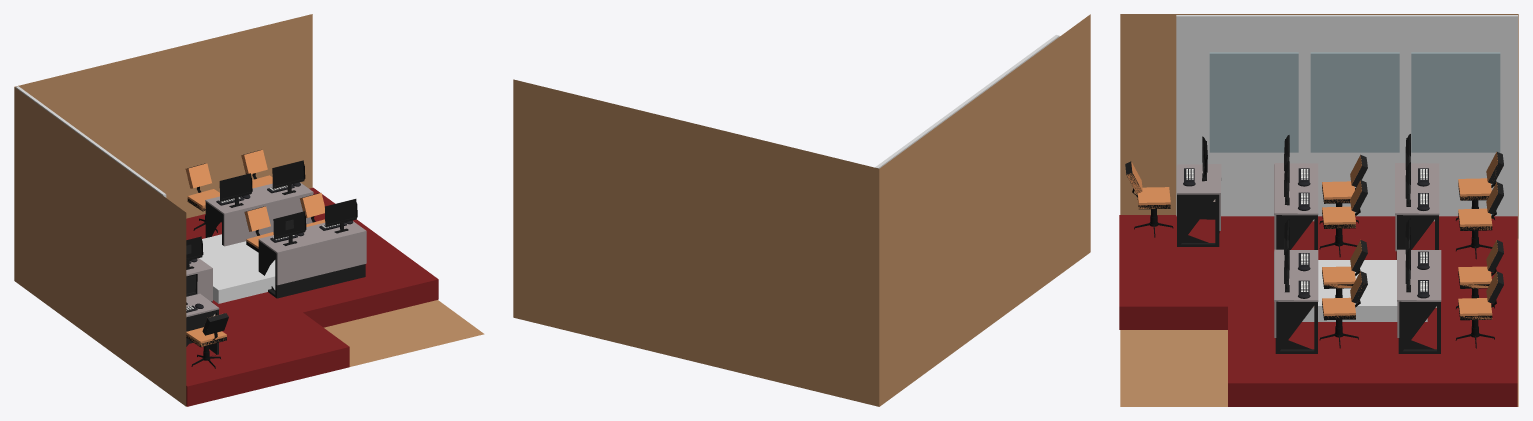
Rendered from lab.multi media.glb.
3 renders of one model, left to right at view 1: azimuth 30°, elevation 25°; view 2: azimuth 150°, elevation 25°; view 3: azimuth 270°, elevation 25°, orthographic. The views are drawn at different scales.
Visible parts, largest first — view 1: Plane, Cube, Cube.001, Cube.002, Cube.012, Cube.003, Kubus.003, Kubus.002, Kubus.029, Kubus.024, Cube.006, Cube.017 (+8 smaller); view 2: Plane, Cube.017; view 3: Cube, Cube.017, Plane, Cube.019, Cube.020, Cube.018, Cube.002, Cube.006, Cube.001, Cube.012, Cube.009, Cube.014 (+14 smaller).
Part boxes in pixels (bbox=[...]): Plane: bbox=[14, 14, 484, 406]; Cube: bbox=[186, 187, 438, 406]; Cube.001: bbox=[258, 221, 366, 285]; Cube.002: bbox=[199, 234, 275, 303]; Cube.012: bbox=[205, 182, 313, 246]; Cube.003: bbox=[258, 241, 365, 298]; Kubus.003: bbox=[219, 173, 252, 207]; Kubus.002: bbox=[272, 160, 305, 194]; Kubus.029: bbox=[325, 199, 357, 233]; Kubus.024: bbox=[273, 211, 306, 245]; Cube.006: bbox=[186, 258, 212, 301]; Cube.017: bbox=[15, 86, 166, 197]; Plane: bbox=[513, 14, 1090, 406]; Cube.017: bbox=[875, 35, 1059, 168]; Cube: bbox=[1119, 215, 1517, 406]; Cube.017: bbox=[1176, 15, 1517, 216]; Plane: bbox=[1120, 14, 1518, 406]; Cube.019: bbox=[1310, 52, 1399, 152]; Cube.020: bbox=[1411, 52, 1500, 152]; Cube.018: bbox=[1209, 52, 1298, 152]; Cube.002: bbox=[1302, 260, 1427, 321]; Cube.006: bbox=[1274, 163, 1318, 249]; Cube.001: bbox=[1274, 249, 1318, 337]; Cube.012: bbox=[1397, 249, 1441, 337]; Cube.009: bbox=[1395, 163, 1439, 251]; Cube.014: bbox=[1177, 194, 1219, 246].
Size of the model in its own units: 3.97 by 2.46 by 3.97.
